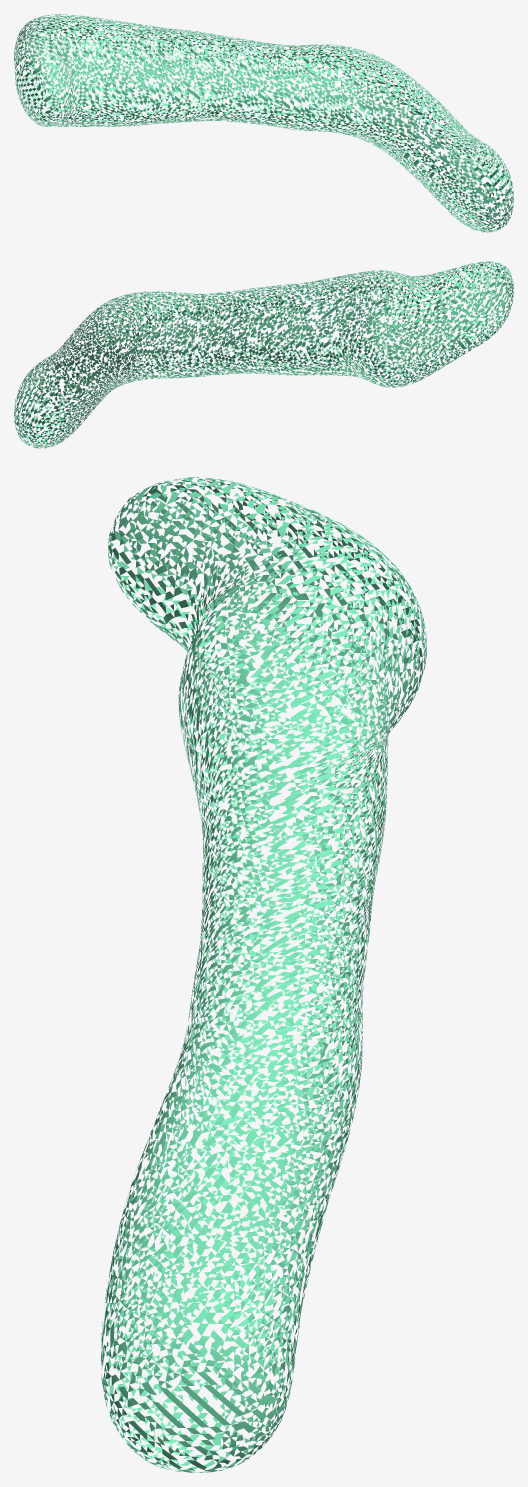
The model's file is healthy.glb.
The picture shows the model from 3 angles, top to bottom: view 1: azimuth 30°, elevation 25°; view 2: azimuth 150°, elevation 25°; view 3: azimuth 270°, elevation 25°; orthographic projection. The views are drawn at different scales.
Size of the model in its own units: 101 by 58.68 by 30.48.
